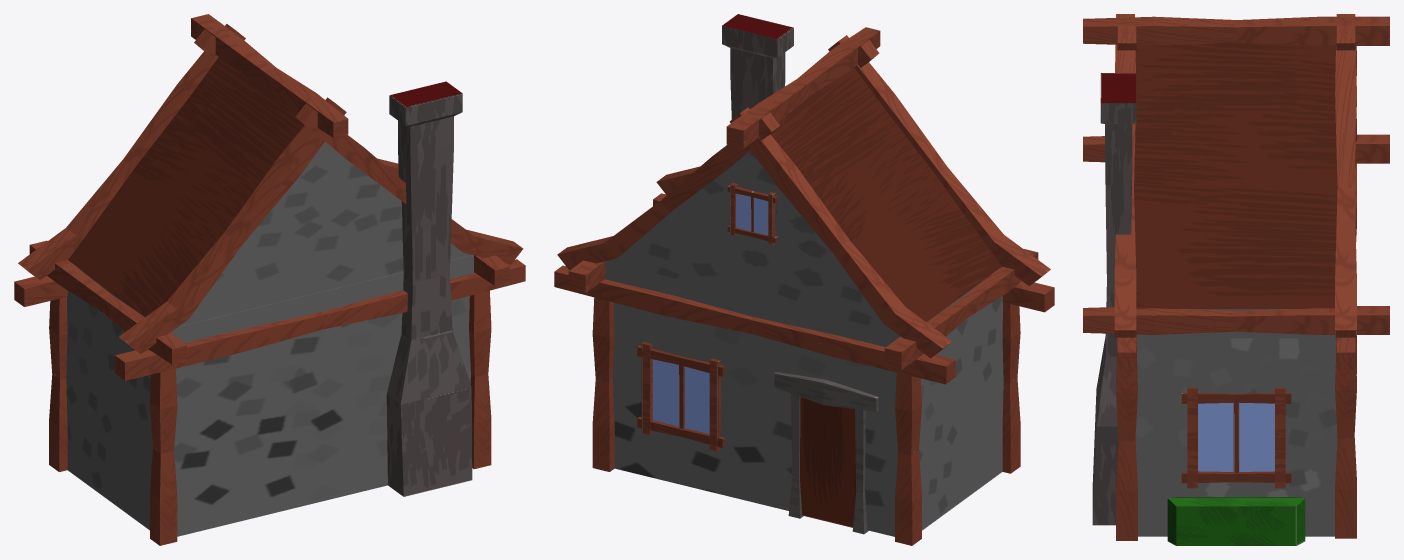
Rendered from CasaT1.fbx.
The picture shows the model from 3 angles, left to right: view 1: azimuth 30°, elevation 25°; view 2: azimuth 150°, elevation 25°; view 3: azimuth 270°, elevation 25°; orthographic projection. The views are drawn at different scales.
Visible parts, largest first — view 1: Casa_002; view 2: Casa_002; view 3: Casa_002.
Boxes of the visible parts, box(x1,y1,x2,y2) form: Casa_002: box(14, 14, 525, 545); Casa_002: box(554, 14, 1054, 545); Casa_002: box(1083, 14, 1389, 545).
Size of the model in its own units: 460 by 438 by 280.
